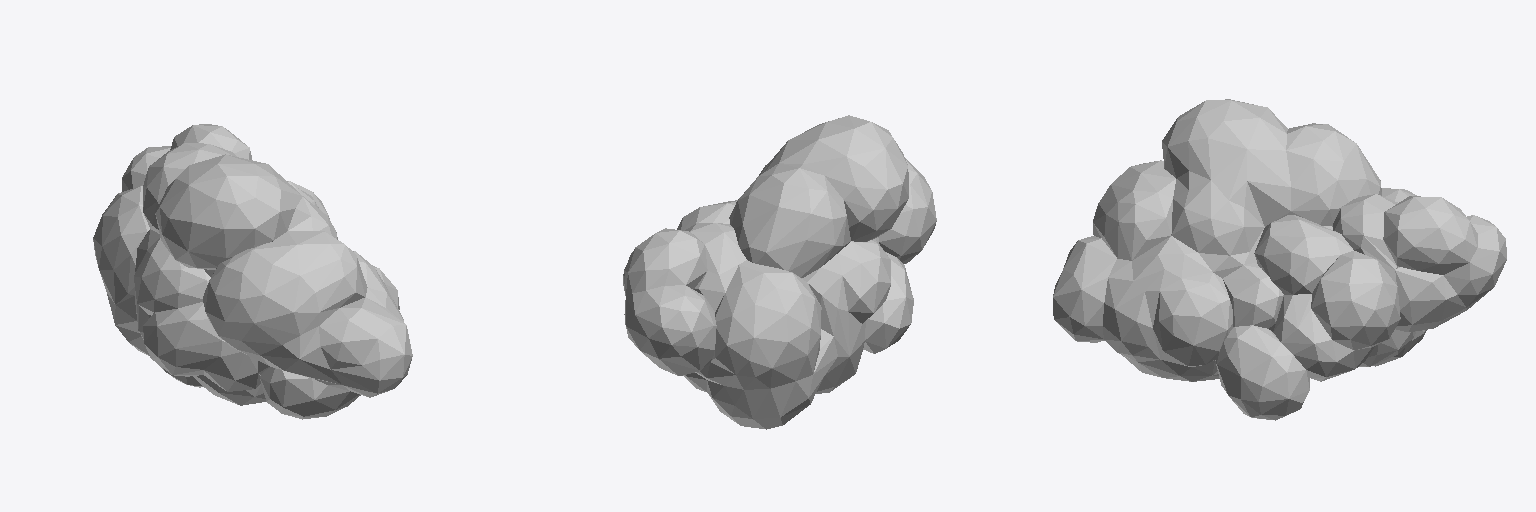
Rendered from cloud-3-low.OBJ.
The picture shows the model from 3 angles: view 1: azimuth 30°, elevation 25°; view 2: azimuth 150°, elevation 25°; view 3: azimuth 270°, elevation 25°; orthographic projection.
Visible parts, largest first — view 1: Group63057; view 2: Group63057; view 3: Group63057.
Boxes of the visible parts, <box> form: Group63057: <box>93,124,412,419</box>; Group63057: <box>623,115,936,429</box>; Group63057: <box>1053,99,1506,420</box>.
Size of the model in its own units: 5.38 by 5.28 by 8.69.